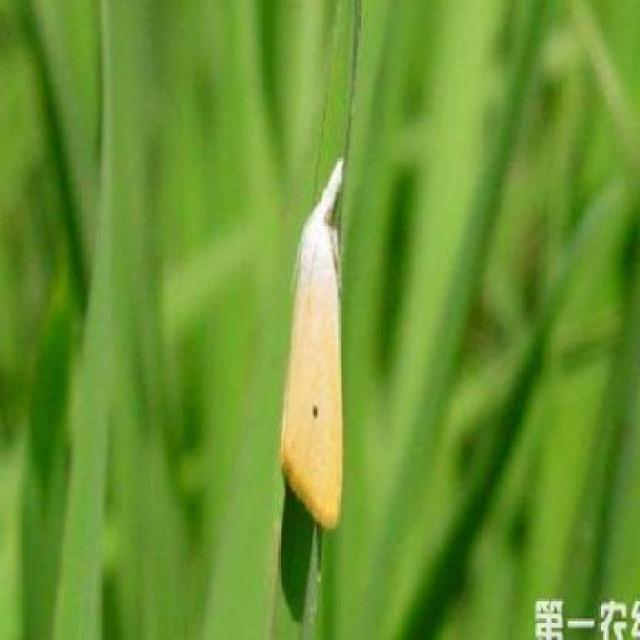stem-borer: (280, 154, 349, 531)
